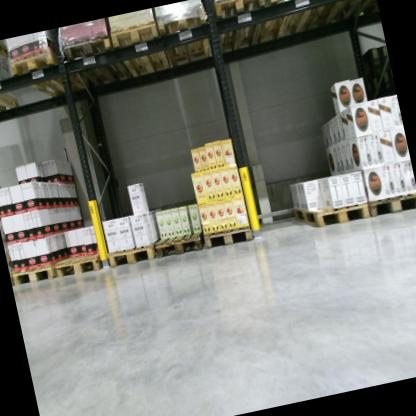pallet: (3, 36, 90, 112), (59, 30, 134, 93), (108, 17, 173, 87), (153, 2, 216, 72), (290, 184, 372, 233), (253, 0, 335, 48), (209, 0, 274, 57), (10, 251, 76, 287), (150, 224, 209, 264), (53, 244, 113, 283), (103, 233, 165, 270), (309, 0, 378, 30), (201, 216, 256, 251), (366, 189, 416, 218), (0, 61, 23, 118)
